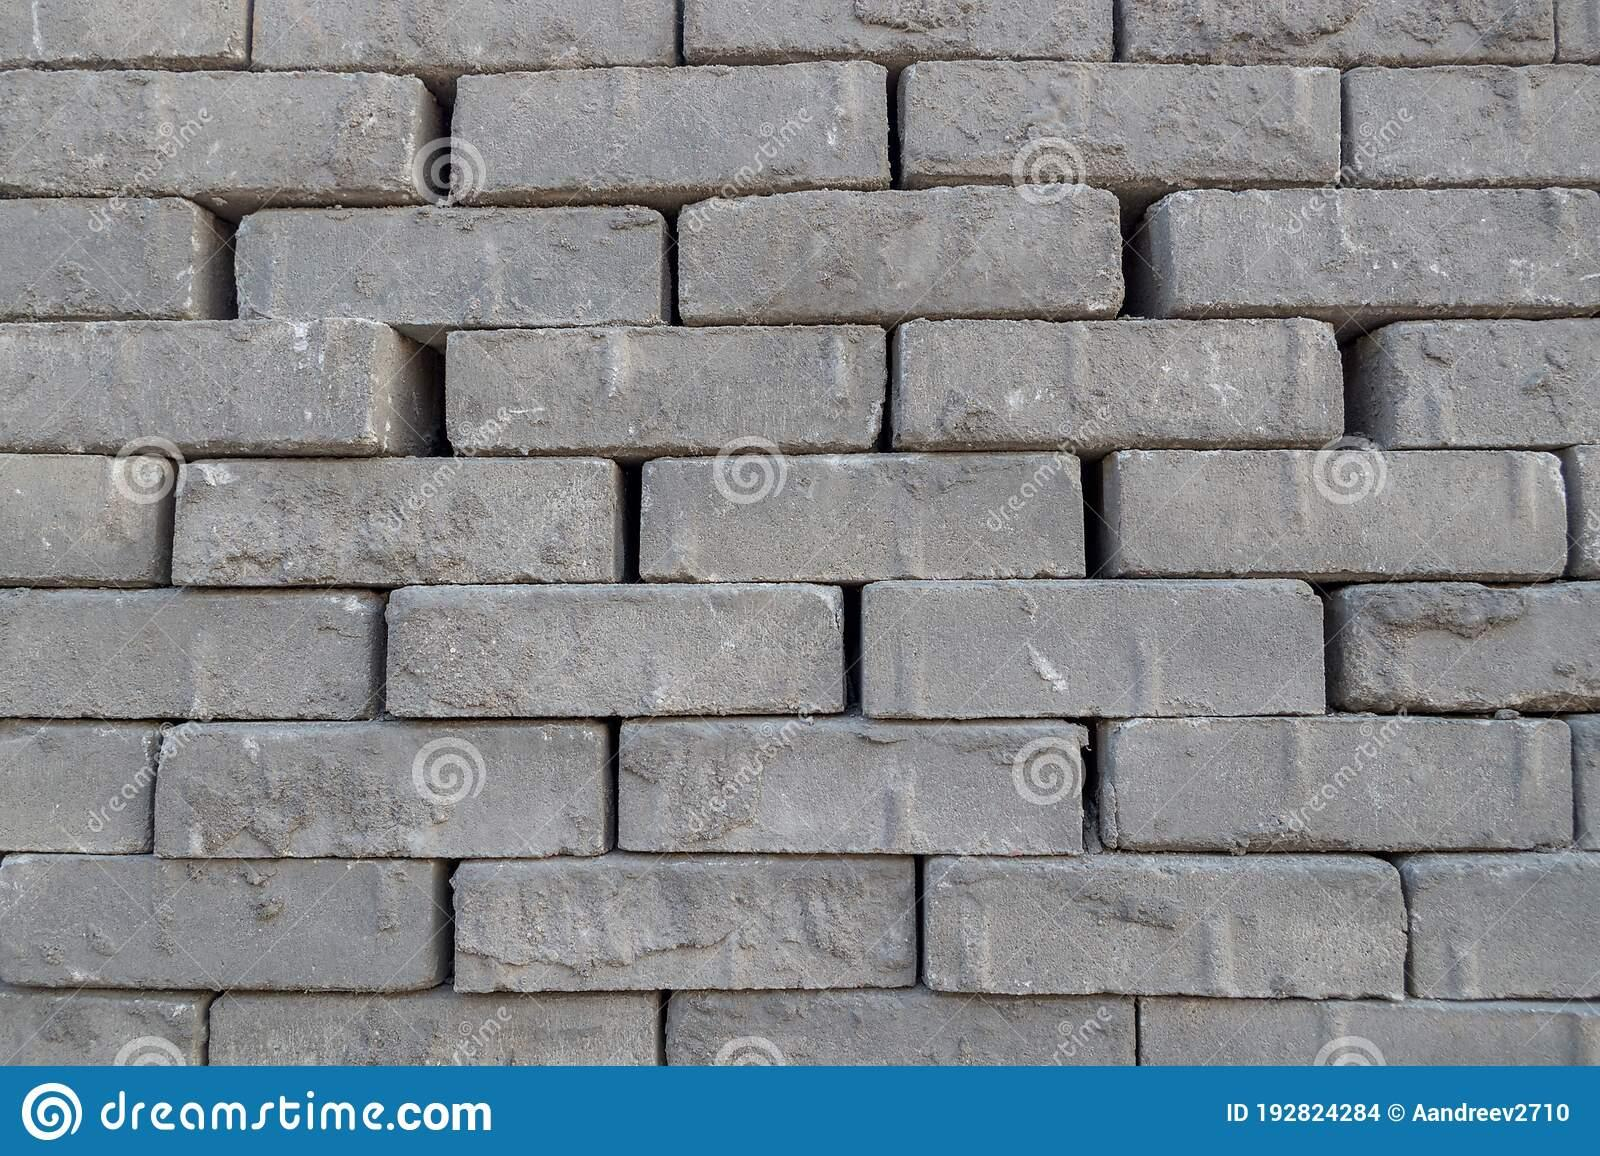brick: (925, 859, 1409, 997), (1101, 715, 1573, 852), (862, 581, 1323, 718), (451, 862, 916, 995), (619, 721, 1086, 853), (154, 723, 604, 858), (453, 61, 889, 199), (681, 184, 1124, 319), (386, 584, 842, 715), (1, 853, 432, 991), (640, 452, 1084, 581), (893, 319, 1344, 445), (1118, 451, 1565, 576), (174, 457, 615, 584), (446, 325, 887, 449), (899, 61, 1340, 184), (0, 70, 419, 199), (1169, 187, 1600, 308), (234, 204, 661, 324), (0, 319, 374, 447), (0, 592, 376, 716), (668, 986, 1135, 1067), (211, 992, 660, 1065), (1342, 581, 1600, 708), (1140, 997, 1600, 1067), (1348, 65, 1600, 183), (1406, 849, 1599, 997), (1120, 0, 1555, 65), (251, 0, 676, 65), (1383, 319, 1599, 446), (683, 0, 1113, 58), (1, 199, 194, 315), (0, 453, 158, 581), (0, 723, 154, 853), (1, 991, 205, 1067), (0, 1, 247, 62)
